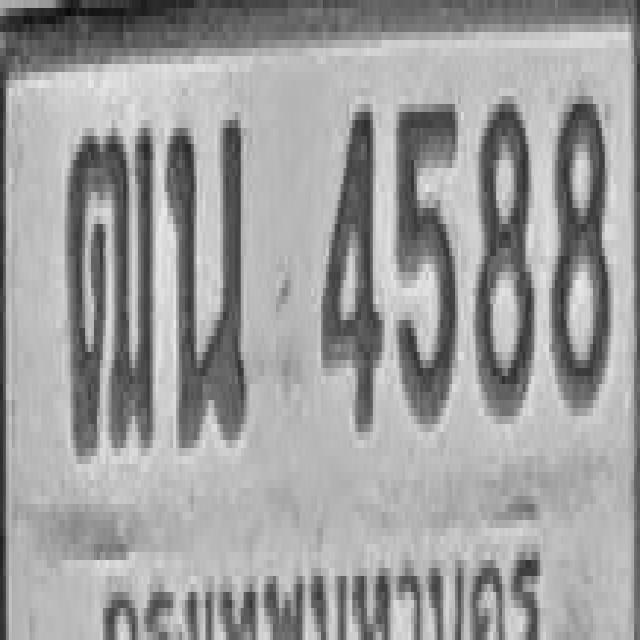27ThorPhuThao: (66, 120, 154, 456)
34NorNu: (166, 112, 245, 440)
4: (320, 100, 382, 428)
5: (393, 96, 458, 424)
8: (474, 96, 533, 416), (551, 88, 609, 408)
